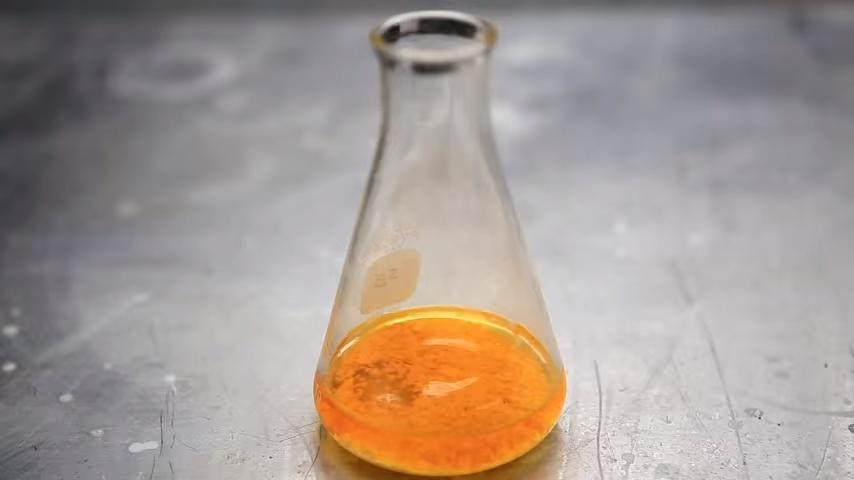Titrarion: (313, 10, 569, 473)
